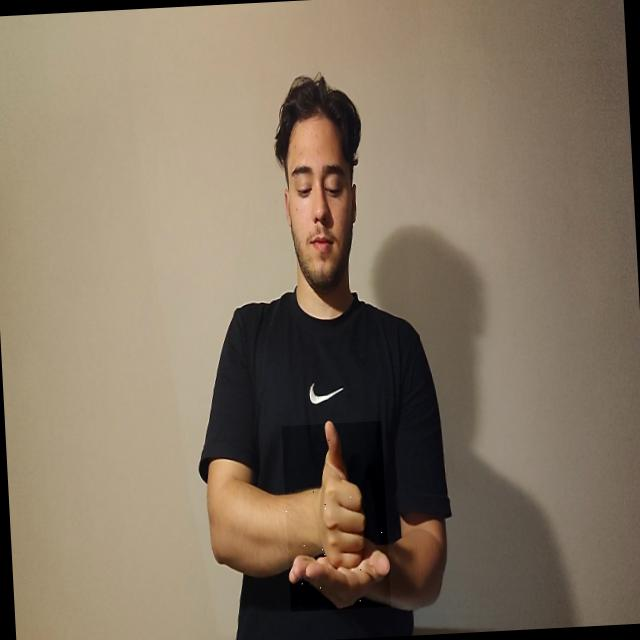help: (282, 421, 392, 612)
